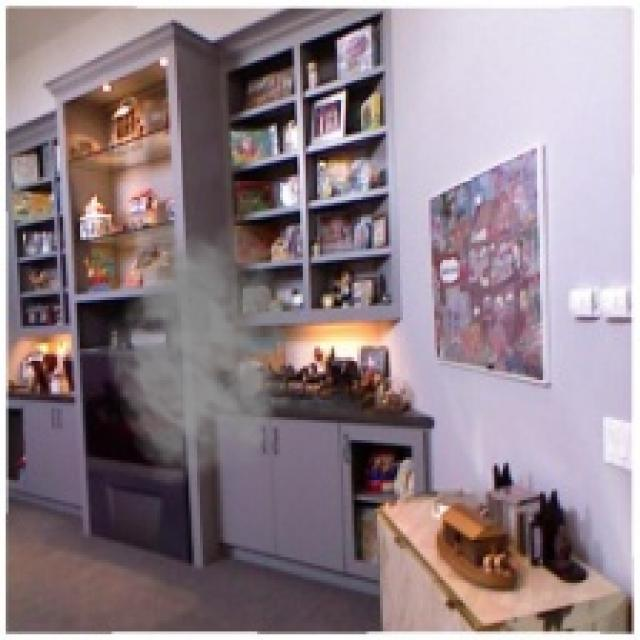smoke: (106, 211, 311, 486)
